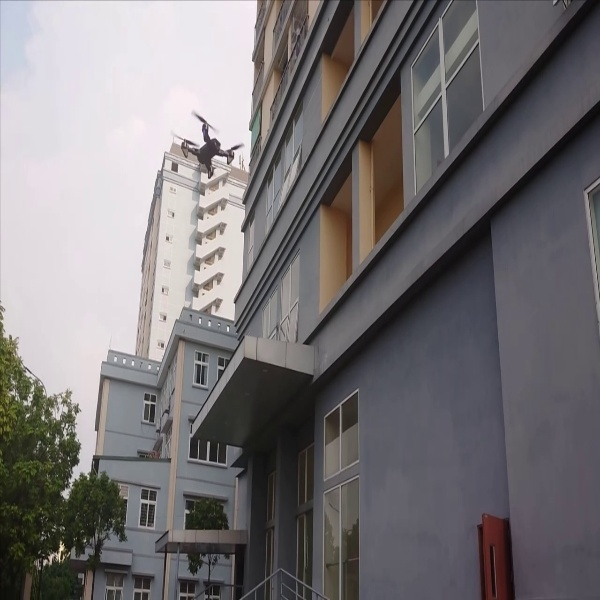drone: (172, 104, 244, 187)
